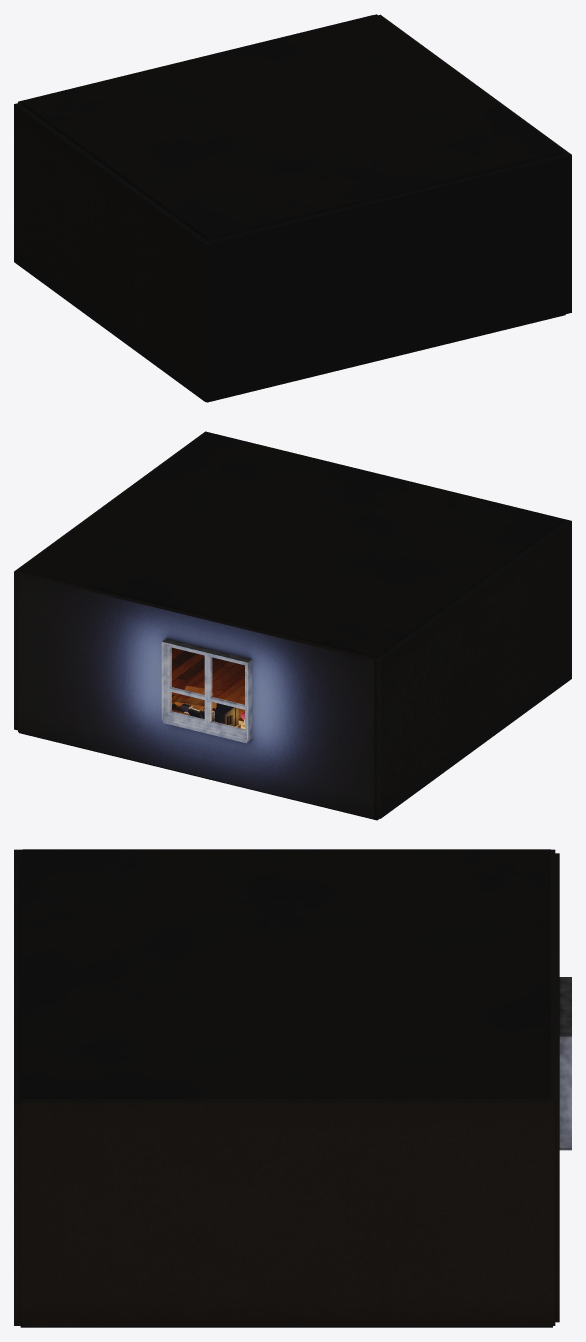
Rendered from sakina-room-fhc.glb.
The picture shows the model from 3 angles, top to bottom: view 1: azimuth 30°, elevation 25°; view 2: azimuth 150°, elevation 25°; view 3: azimuth 270°, elevation 25°; orthographic projection. The views are drawn at different scales.
Visible parts, largest first — view 1: Room_Shell; view 2: Room_Shell, Room_Window, Room_Floor; view 3: Room_Shell, Room_Window.
Boxes of the visible parts, bbox=[...] form: Room_Shell: bbox=[14, 14, 571, 402]; Room_Shell: bbox=[14, 431, 571, 820]; Room_Window: bbox=[161, 638, 252, 743]; Room_Floor: bbox=[172, 647, 244, 721]; Room_Shell: bbox=[14, 849, 559, 1327]; Room_Window: bbox=[559, 977, 571, 1150].
Bounding box in the file's own units: 6.8 × 2.91 × 6.34.
Materials: 12 (12 with a texture image).
